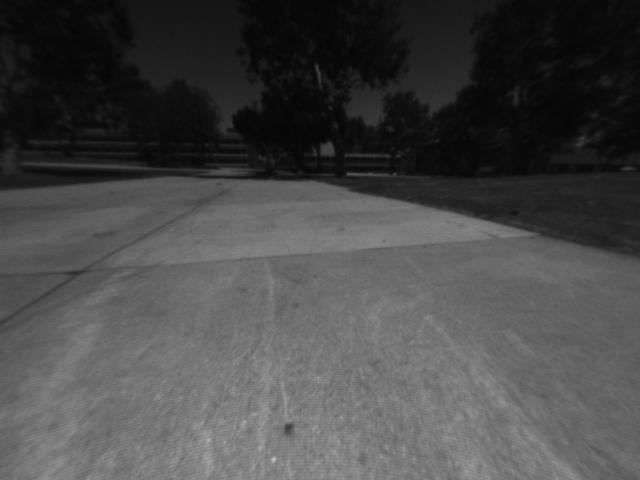dogtoy: (505, 199, 526, 221)
